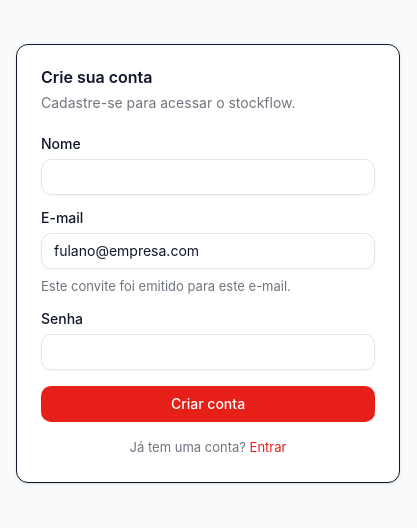
Test case: CadastroPage › mapeia um 400 VALIDATION_ERROR do servidor para o critério de senha, mantendo o formulário
Type "Fulano de Tal" into the field labelled "Nome" at (208,176), box [41, 158, 375, 194]
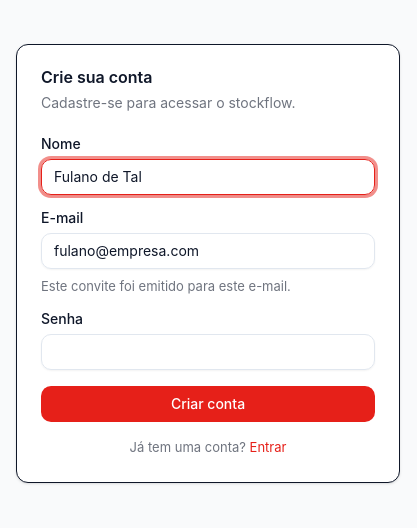
Type "senha-123456" into the password field labelled "Senha" at (208,352), box [41, 334, 375, 370]
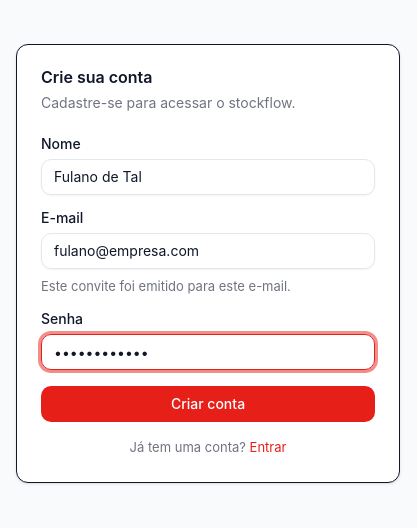
Click the button "Criar conta" at (208,404), box [41, 386, 375, 422]
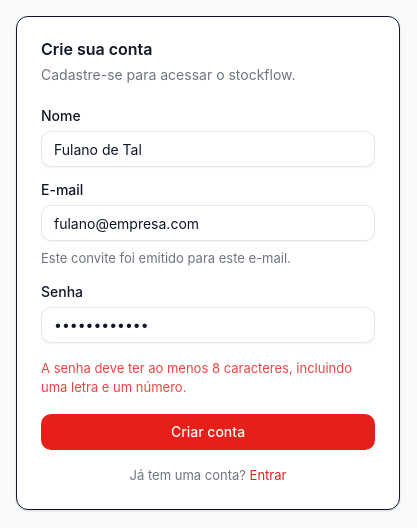
Check: the message reads "A senha deve ter ao menos 8 caracteres, incluindo uma letra e um número.", box [41, 360, 352, 395]
